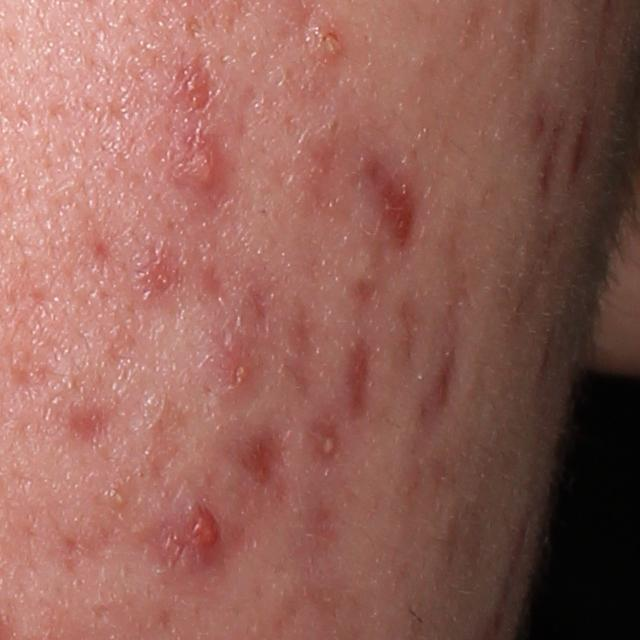atrophic_scar: (408, 308, 481, 469), (282, 300, 322, 397), (344, 340, 385, 426), (68, 403, 136, 453), (392, 292, 429, 381), (242, 430, 288, 497), (228, 78, 265, 159), (342, 276, 385, 341), (193, 255, 231, 309)
papule: (156, 503, 222, 574), (179, 126, 228, 195), (211, 340, 262, 395), (137, 248, 189, 300), (306, 20, 341, 59)
pustule: (309, 419, 342, 464)
